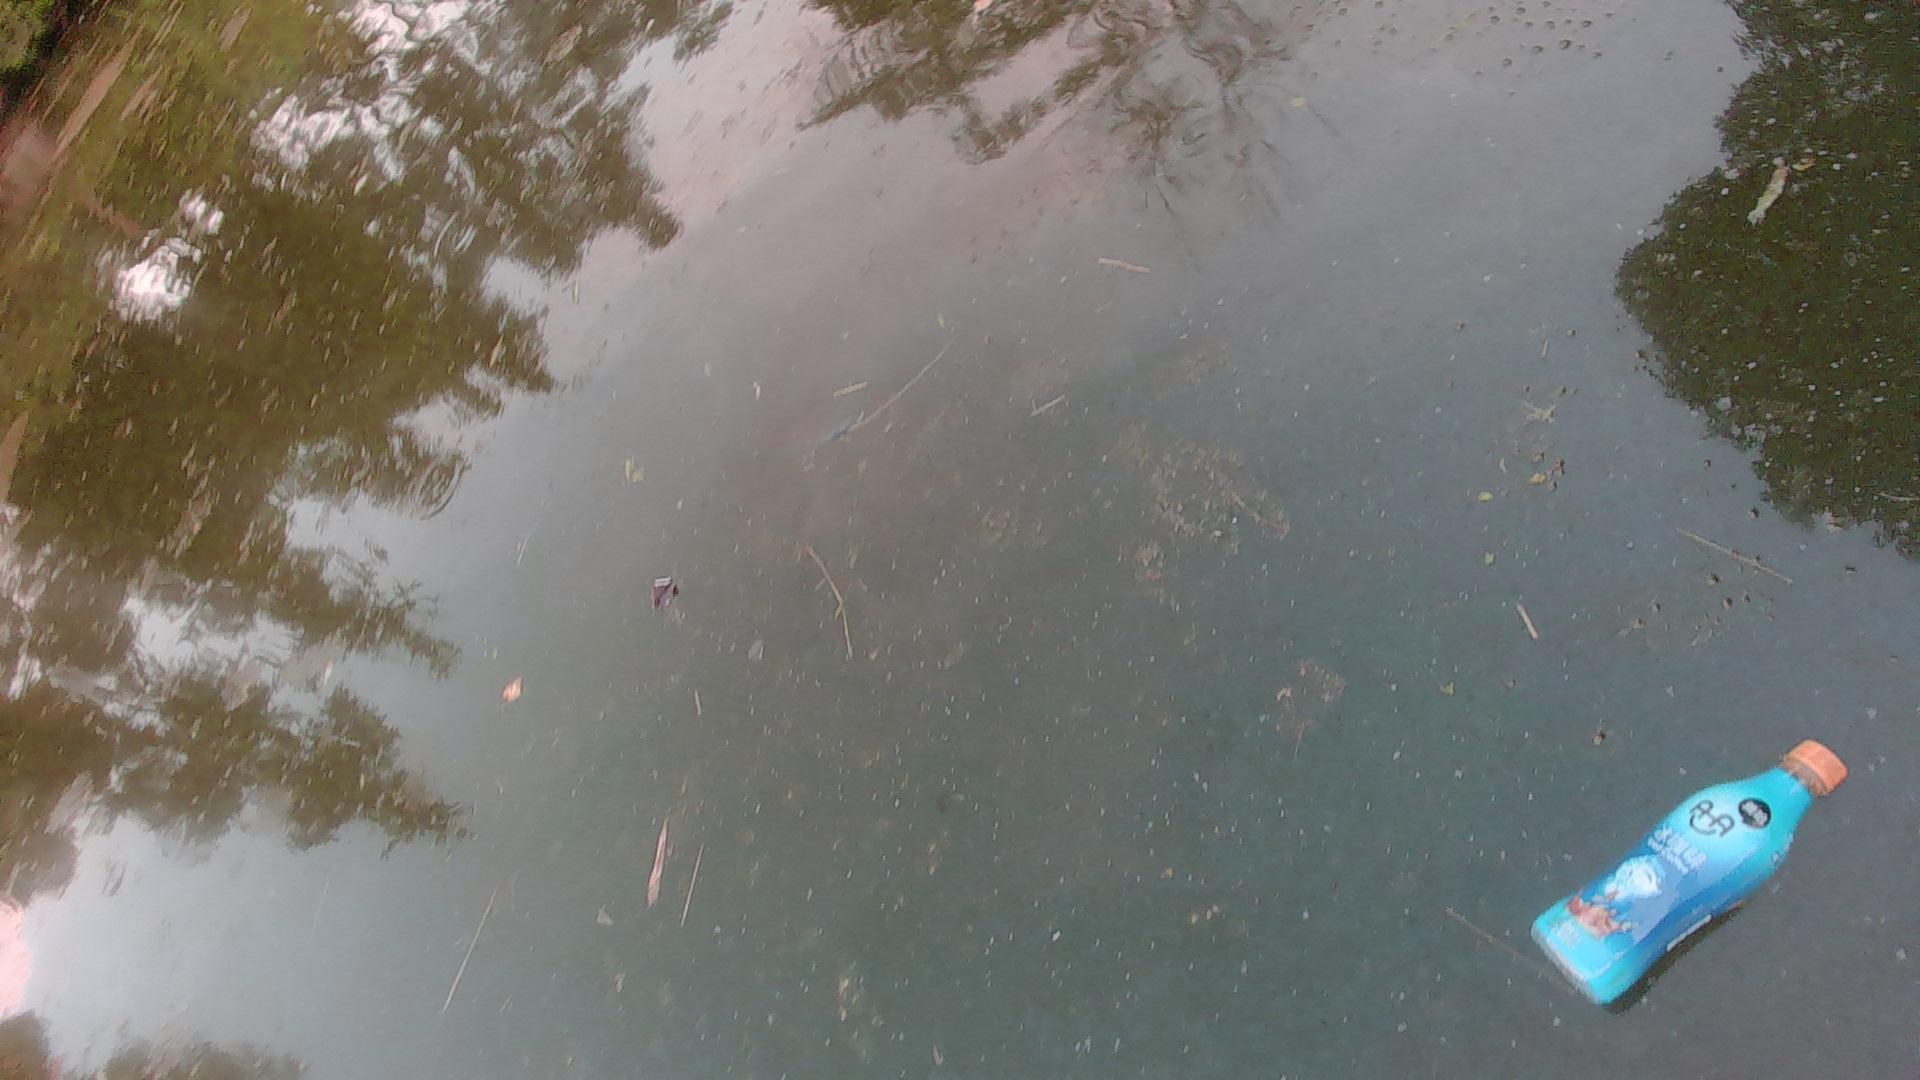Plastic: (1524, 737, 1854, 1011)
